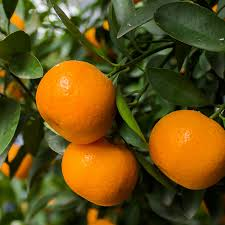orange: (37, 59, 112, 144), (150, 111, 225, 196), (64, 147, 135, 209)
